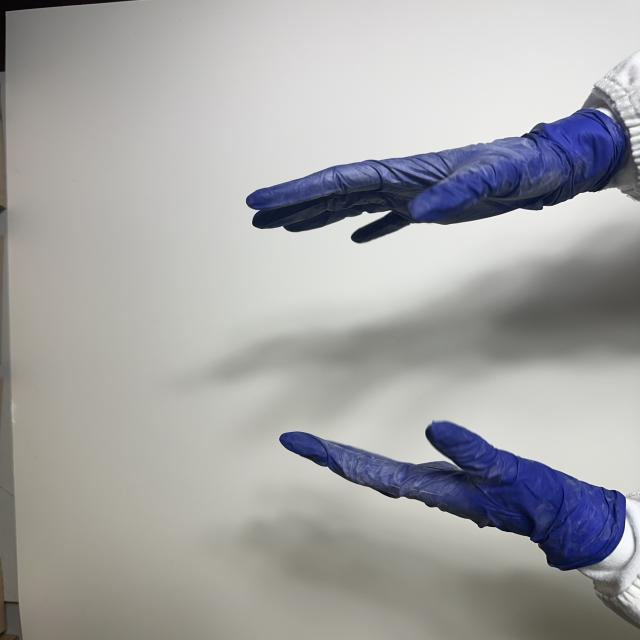gloves_contaminated: (280, 421, 626, 570), (247, 109, 630, 243)
